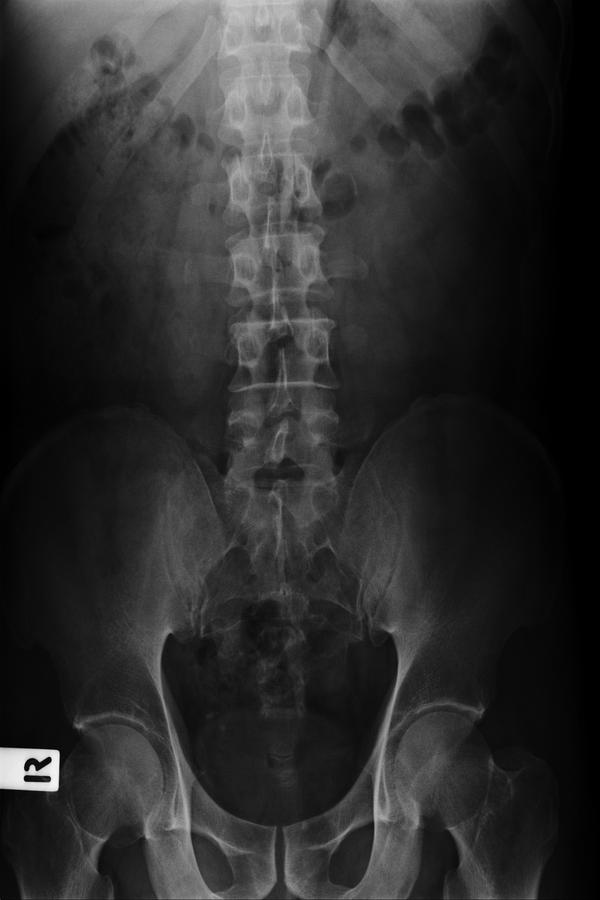lumbar scoliosis: (199, 114, 347, 539)
